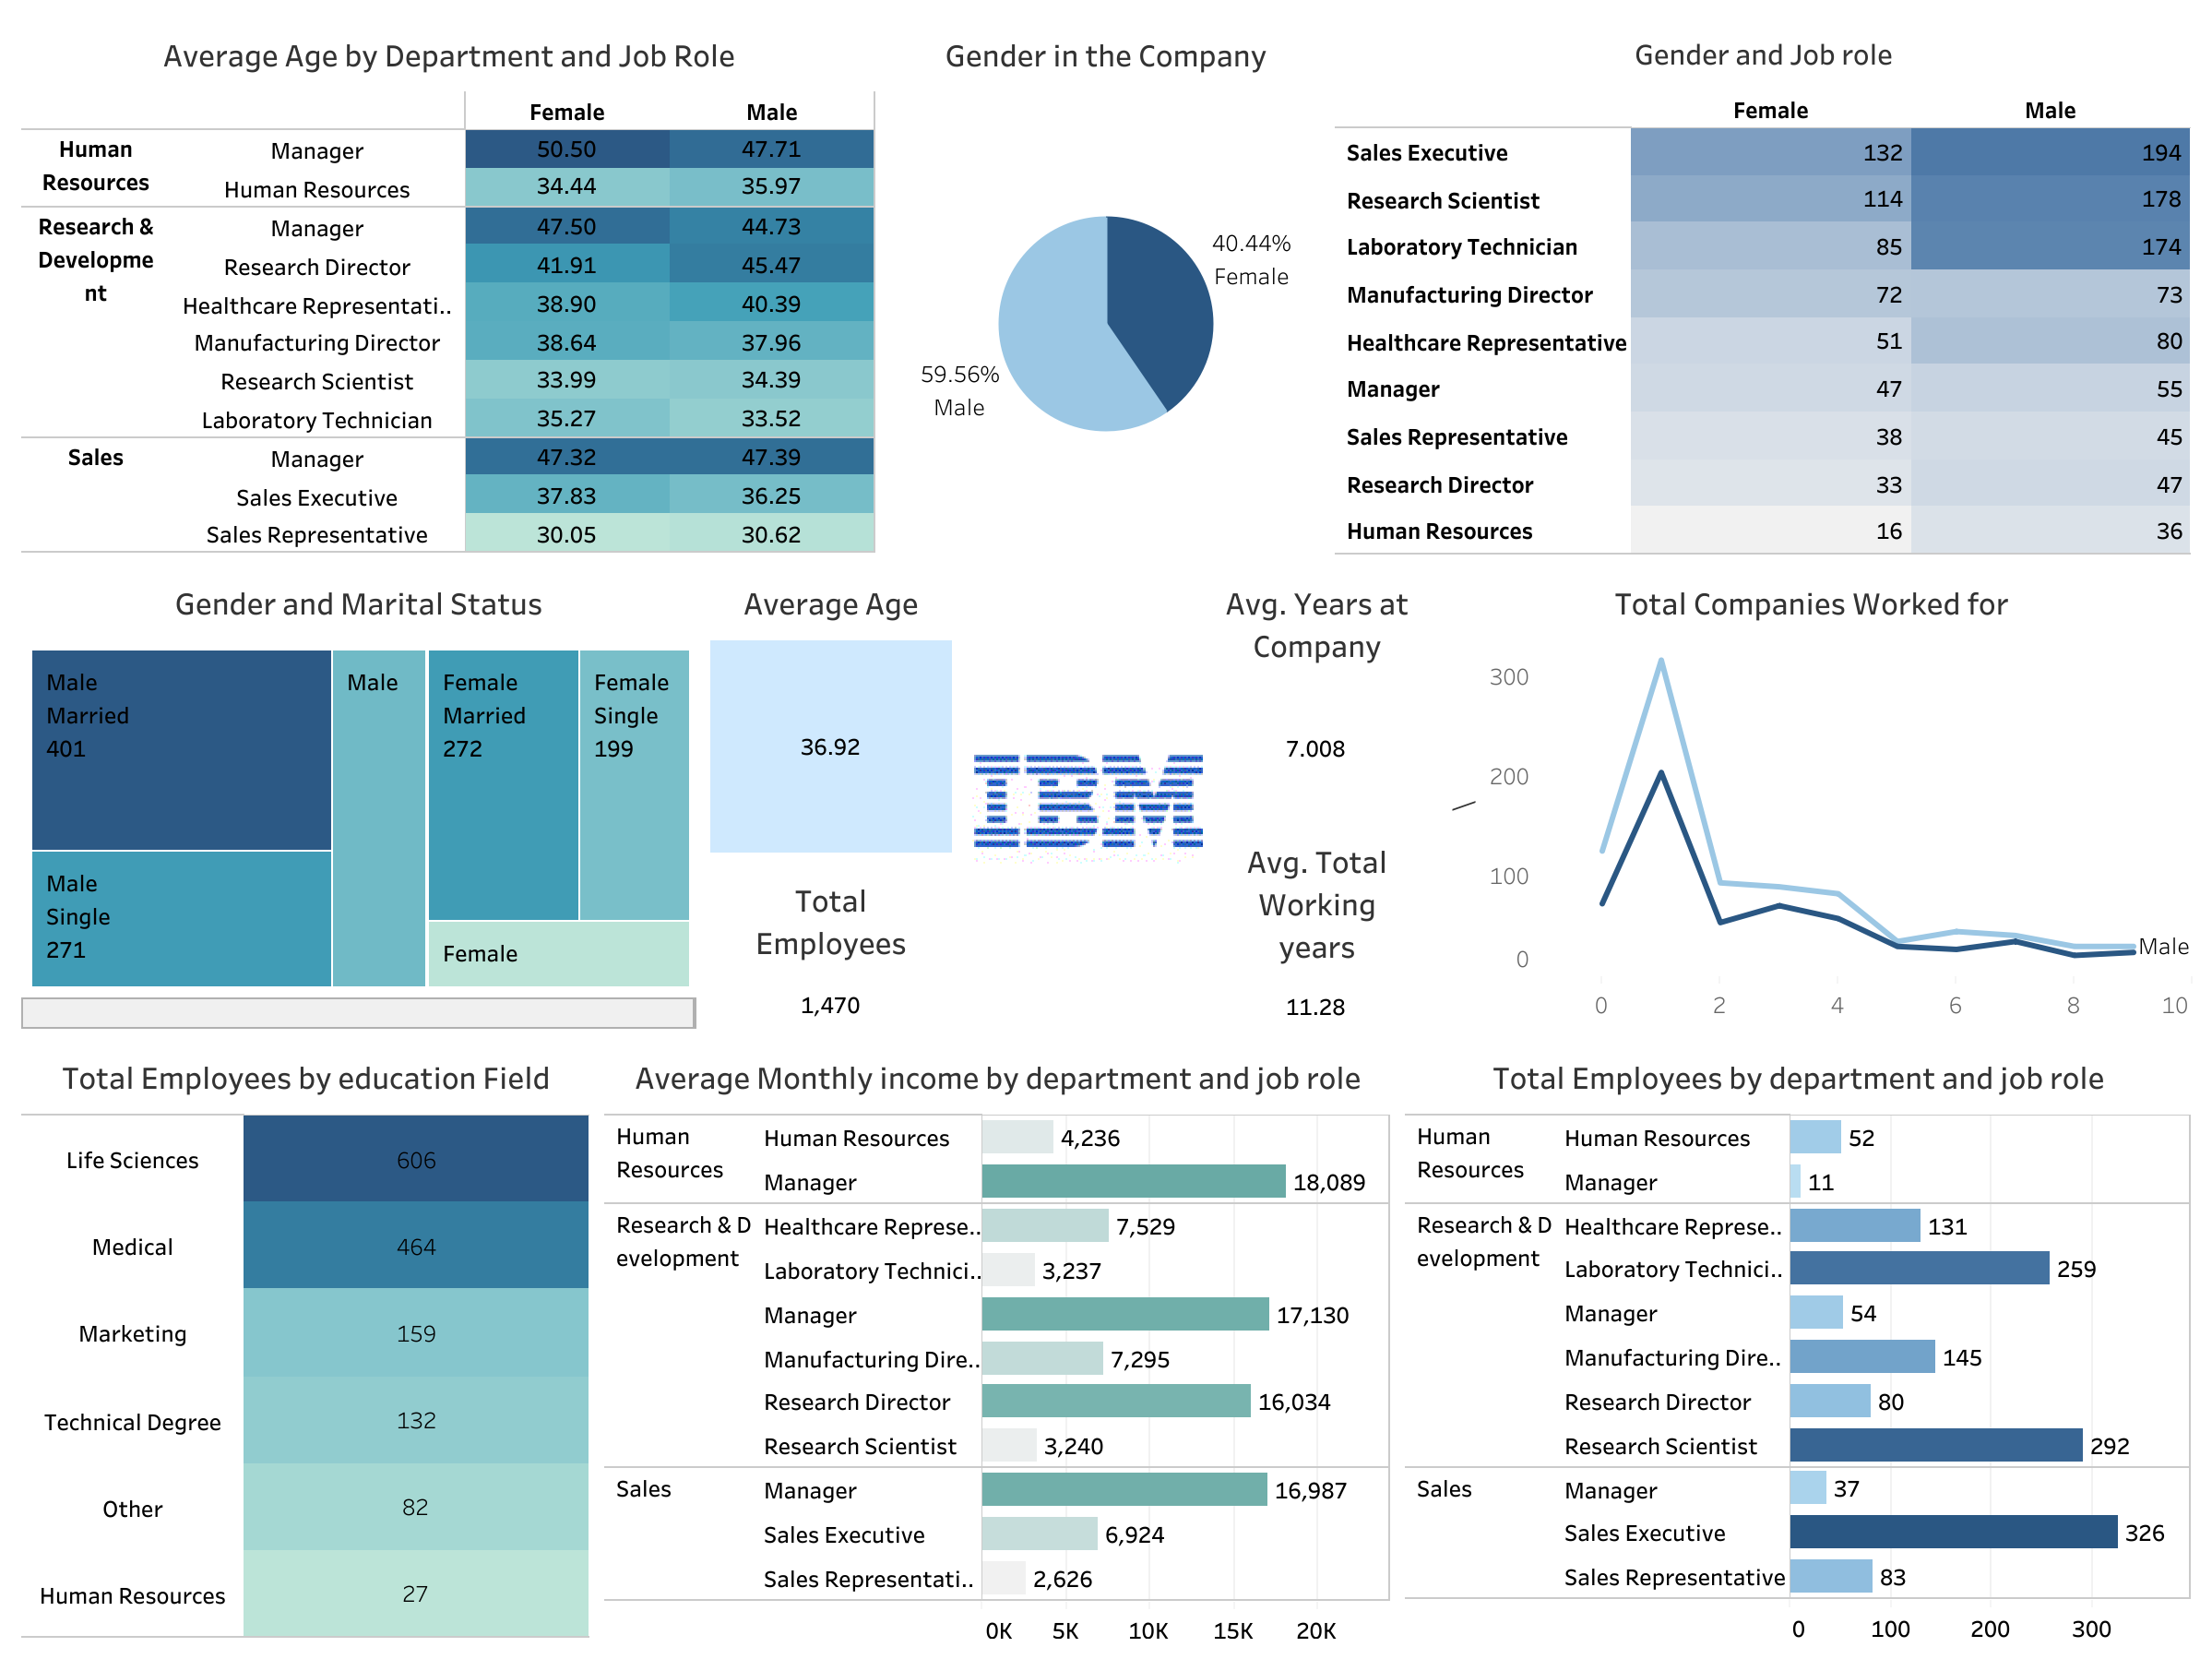

The page's visual inventory and layout, read from the dashboard file:
{"tool":"tableau","page":{"name":"IBM Dashboard","canvas":[1200,900],"ordinal":0},"visuals":[{"type":"worksheet","title":"Average Age by Department and Job Role","mark":"Square","rows":["Department","JobRole"],"cols":["Gender"],"box":[8,8,471,297]},{"type":"worksheet","title":"Gender in the Company","mark":"Pie","box":[479,8,241,297]},{"type":"worksheet","title":"Gender and Job role","mark":"Square","rows":["JobRole"],"cols":["Gender"],"box":[720,8,472,297]},{"type":"worksheet","title":"Gender and Marital Status","mark":"Automatic","box":[8,305,373,257]},{"type":"worksheet","title":"Average Age","mark":"Automatic","box":[381,305,139,160.8]},{"type":"image","param":"Image/download.png","box":[520,305,136,257]},{"type":"worksheet","title":"Avg Years at Company","mark":"Automatic","box":[656,305,116,139.8]},{"type":"worksheet","title":"Total Companies Worked for","mark":"Automatic","rows":["Gender"],"cols":["NumCompaniesWorked"],"box":[772,305,420,257]},{"type":"worksheet","title":"Sheet 12","mark":"Automatic","box":[656,444.8,116,117.2]},{"type":"worksheet","title":"Total Employees","mark":"Automatic","box":[381,465.8,139,96.2]},{"type":"worksheet","title":"Total Employees by education Field","mark":"Square","rows":["EducationField"],"box":[8,562,316,330]},{"type":"worksheet","title":"Average Monthly income by department and job role","mark":"Automatic","rows":["Department","JobRole"],"cols":["MonthlyIncome"],"box":[324,562,434,330]},{"type":"worksheet","title":"Total Employees by department and job role","mark":"Automatic","rows":["Department","JobRole"],"cols":["EmployeeCount"],"box":[758,562,434,330]}]}

Visuals, with their boxes in screenshot pixels (x1, y1, x2, y2), scaled from the page's 1200x900 canvas onto the 2212x1659 screenshot:
"Average Age by Department and Job Role" worksheet (Square marks): left=15, top=15, right=883, bottom=562
"Gender in the Company" worksheet (Pie marks): left=883, top=15, right=1327, bottom=562
"Gender and Job role" worksheet (Square marks): left=1327, top=15, right=2197, bottom=562
"Gender and Marital Status" worksheet: left=15, top=562, right=702, bottom=1036
"Average Age" worksheet: left=702, top=562, right=958, bottom=859
image: left=958, top=562, right=1209, bottom=1036
"Avg Years at Company" worksheet: left=1209, top=562, right=1423, bottom=820
"Total Companies Worked for" worksheet: left=1423, top=562, right=2197, bottom=1036
"Sheet 12" worksheet: left=1209, top=820, right=1423, bottom=1036
"Total Employees" worksheet: left=702, top=859, right=958, bottom=1036
"Total Employees by education Field" worksheet (Square marks): left=15, top=1036, right=597, bottom=1644
"Average Monthly income by department and job role" worksheet: left=597, top=1036, right=1397, bottom=1644
"Total Employees by department and job role" worksheet: left=1397, top=1036, right=2197, bottom=1644
